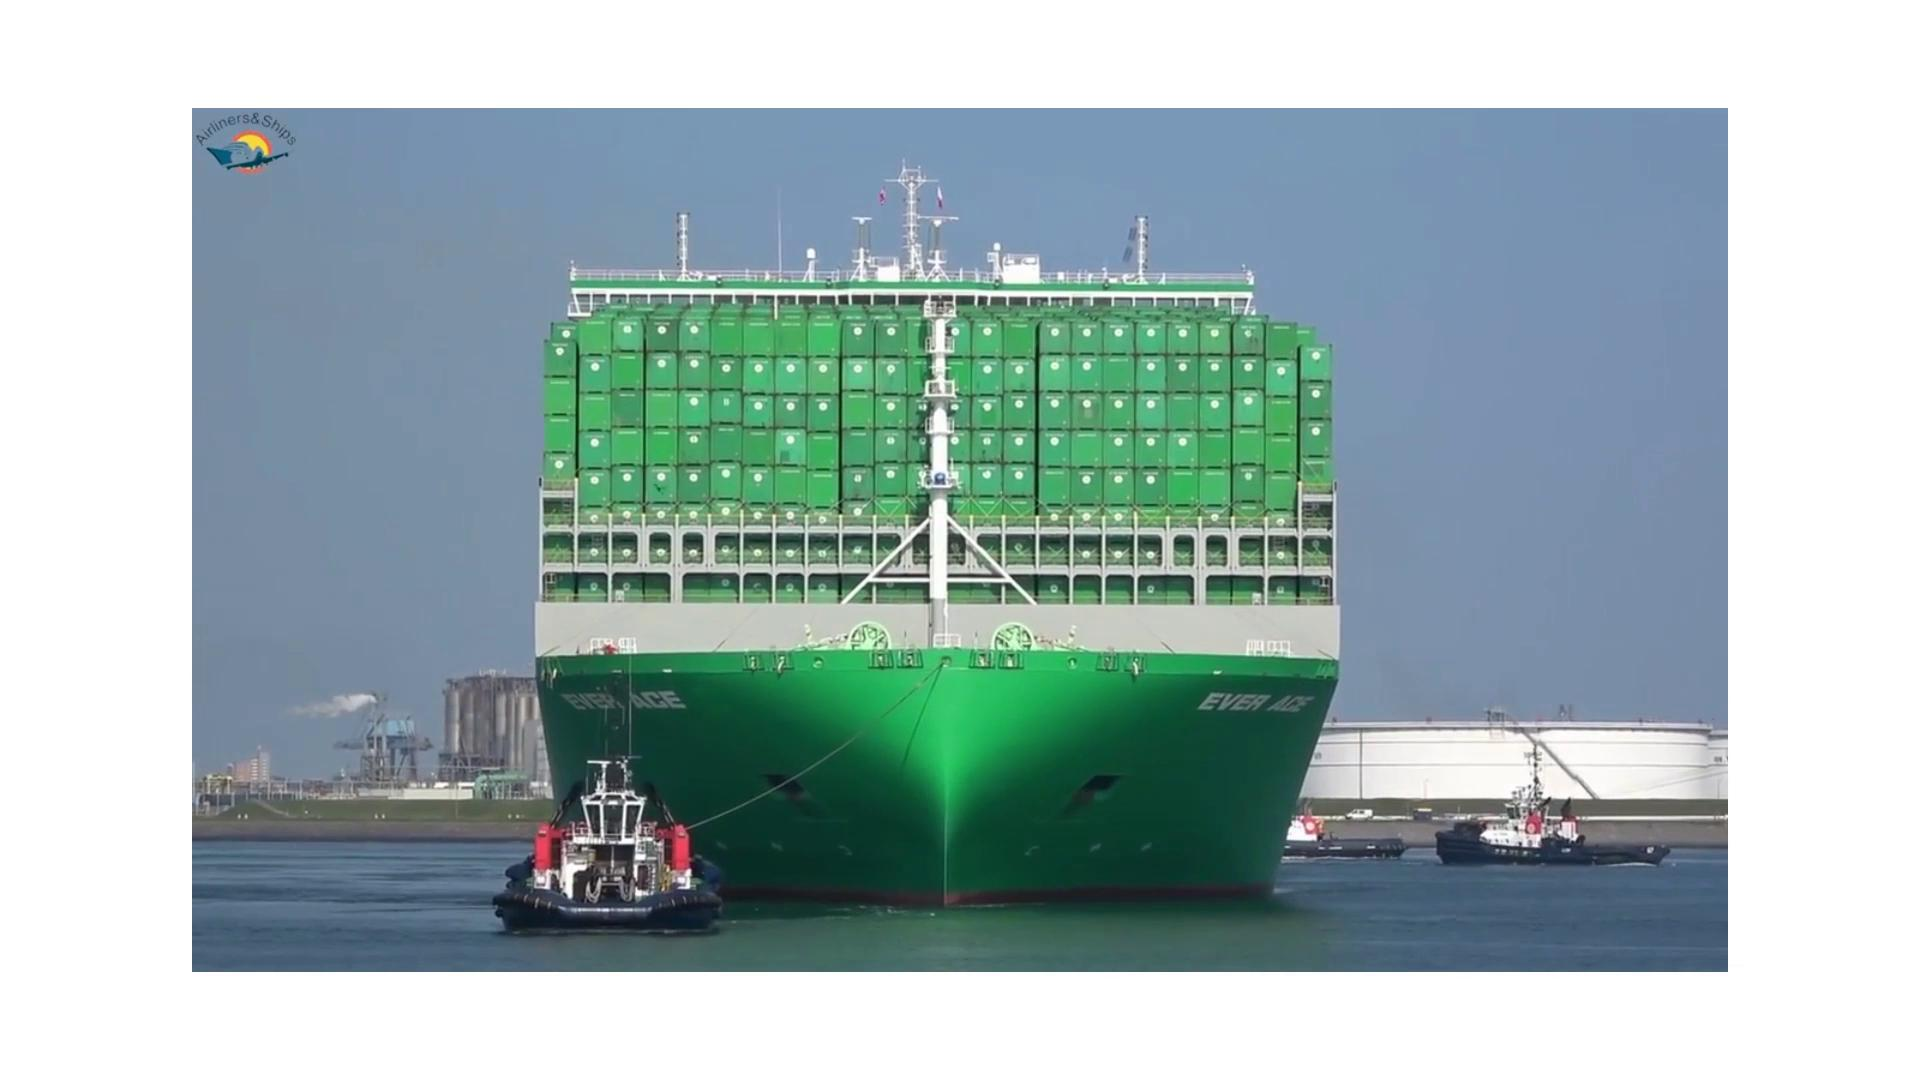OCR: (1163, 655, 1337, 744), (530, 658, 691, 729)
